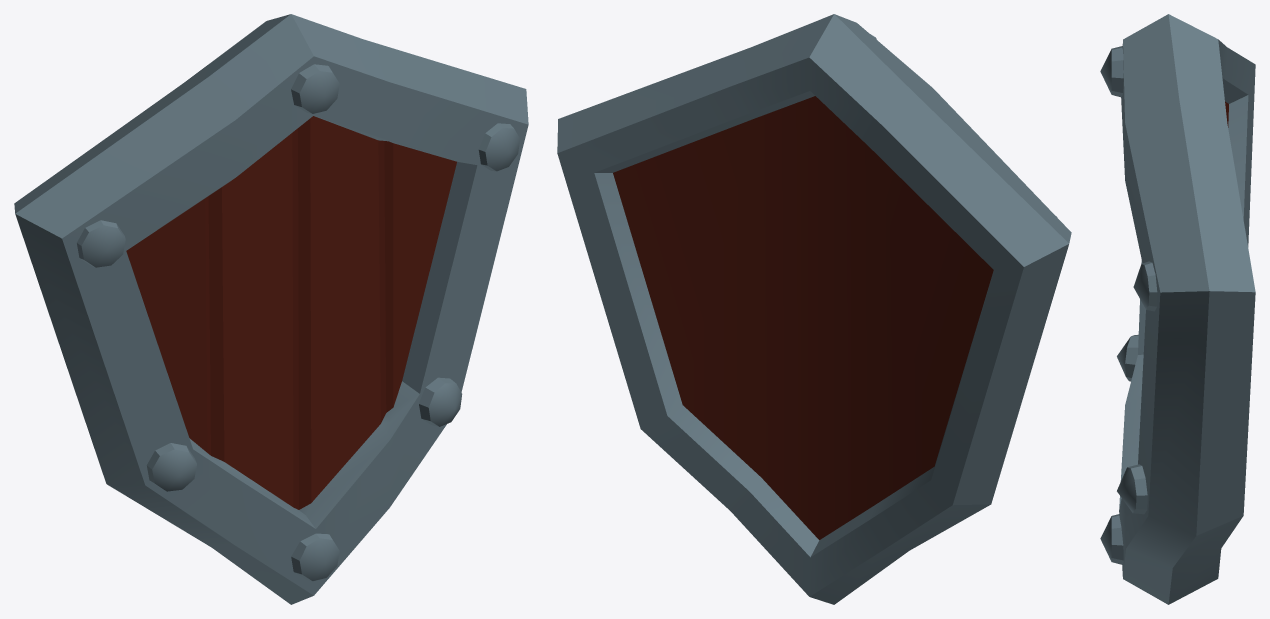
File: shield_uncommon.obj
The picture shows the model from 3 angles, left to right: view 1: azimuth 30°, elevation 25°; view 2: azimuth 150°, elevation 25°; view 3: azimuth 270°, elevation 25°; orthographic projection.
Parts seen in each view (by area): view 1: shield_uncommon_Cube.3216; view 2: shield_uncommon_Cube.3216; view 3: shield_uncommon_Cube.3216.
Part boxes in pixels (x1,y1,x2,y2): shield_uncommon_Cube.3216: (14, 14, 528, 604); shield_uncommon_Cube.3216: (557, 14, 1071, 604); shield_uncommon_Cube.3216: (1100, 14, 1255, 604).
Bounding box in the file's own units: 0.7567 × 0.8359 × 0.1991.
